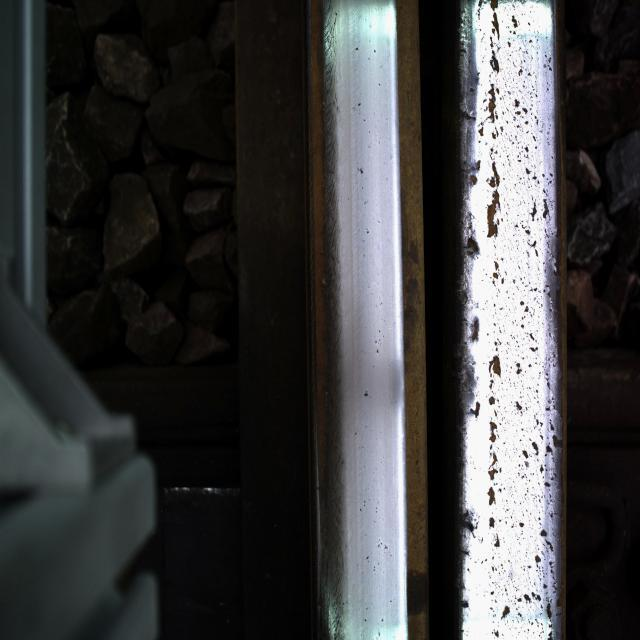scar: (458, 0, 528, 601)
